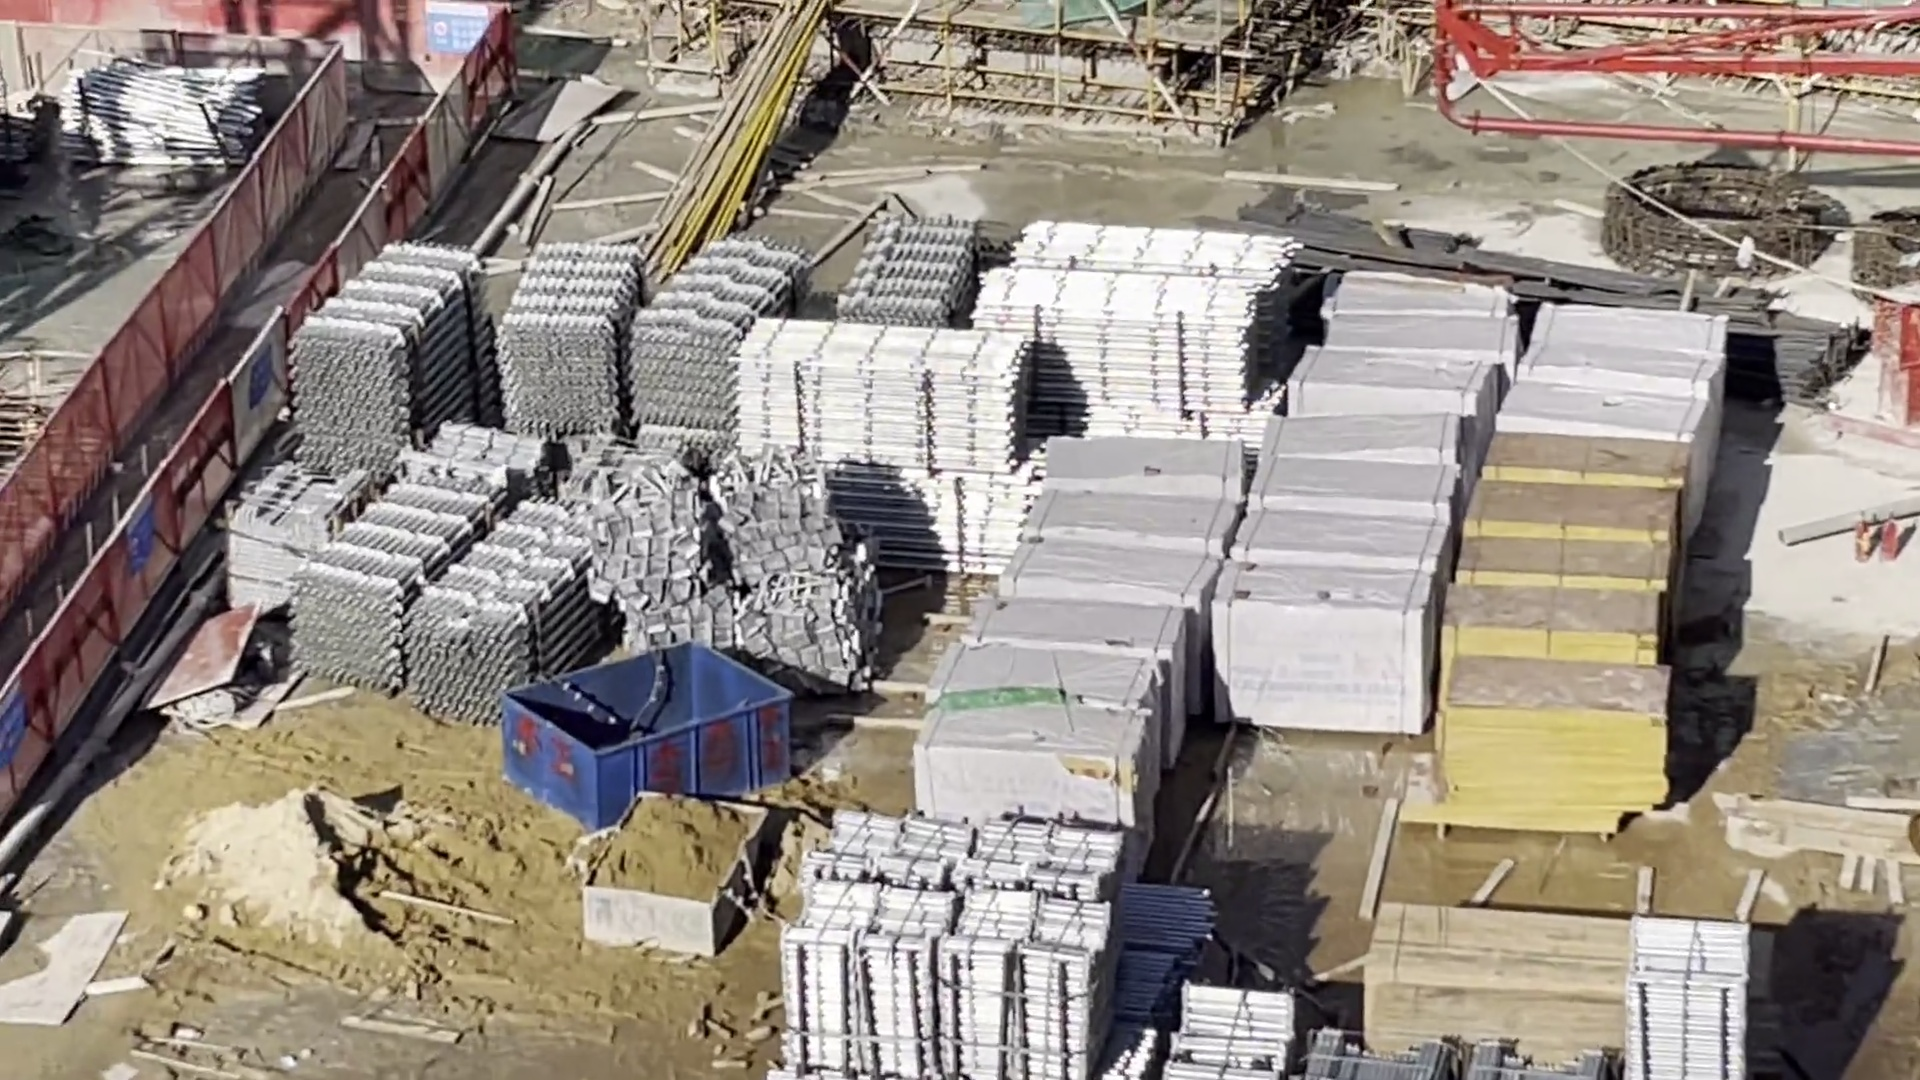board: (1428, 434, 1673, 837), (1367, 902, 1617, 1050)
fence: (7, 62, 481, 781), (20, 1, 433, 96)
hopper: (508, 642, 789, 835), (582, 791, 766, 957)
rebar: (1385, 245, 1850, 404)
scaffold: (800, 818, 1108, 1080), (736, 320, 1025, 562), (302, 488, 611, 712), (993, 218, 1283, 435), (501, 245, 802, 439), (290, 249, 493, 468), (1619, 913, 1733, 1080), (66, 73, 251, 165), (847, 219, 971, 319), (1171, 985, 1291, 1080)
slogan: (123, 495, 156, 578), (1, 703, 22, 764)
